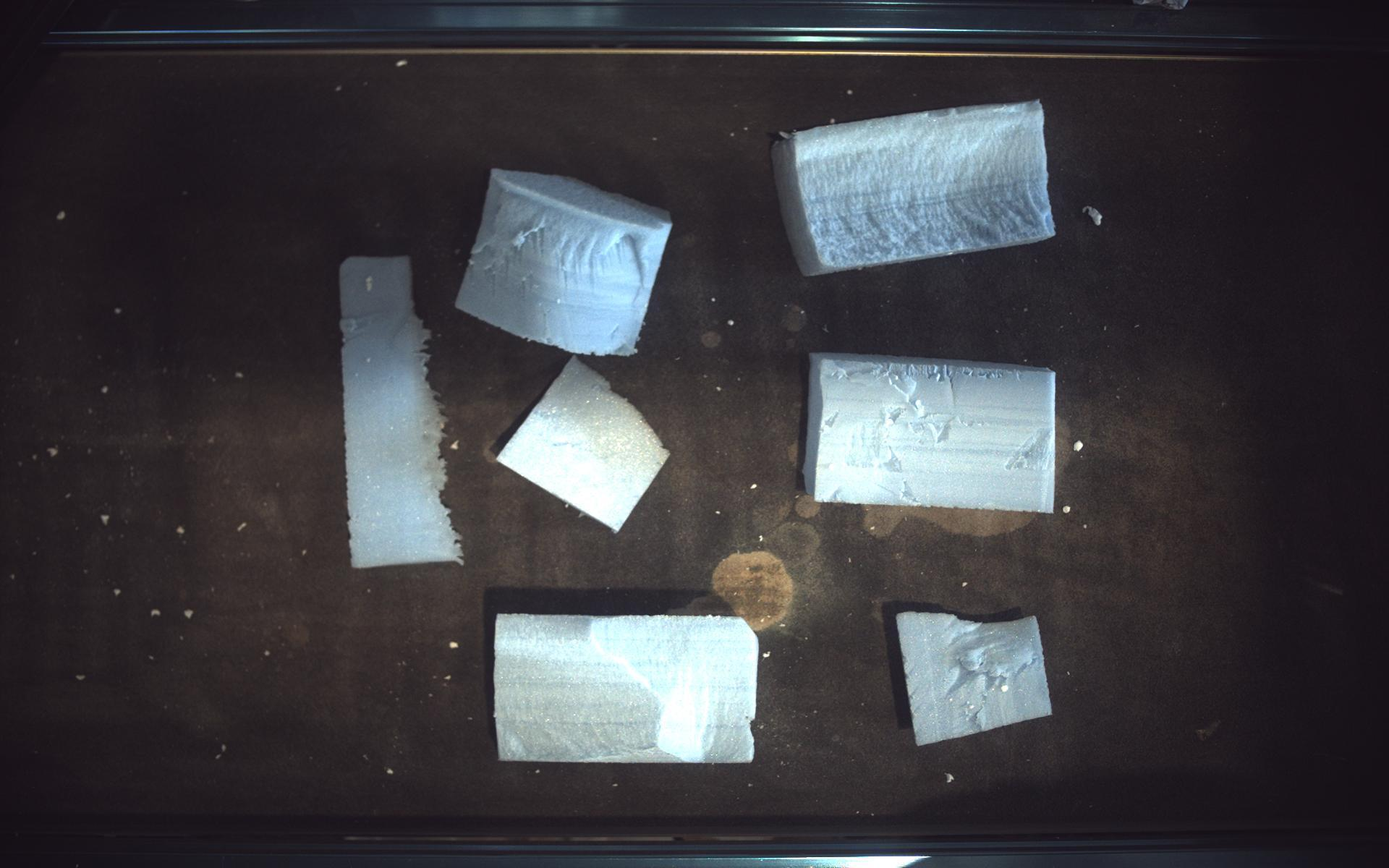foam: (773, 101, 1058, 275), (805, 353, 1058, 514), (493, 613, 760, 765), (456, 169, 673, 355), (339, 255, 462, 569), (497, 356, 670, 532), (899, 613, 1053, 746)
